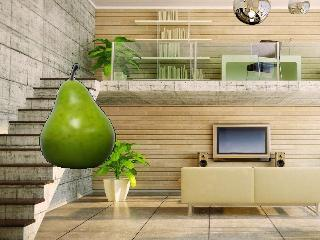pear: (37, 62, 118, 171)
